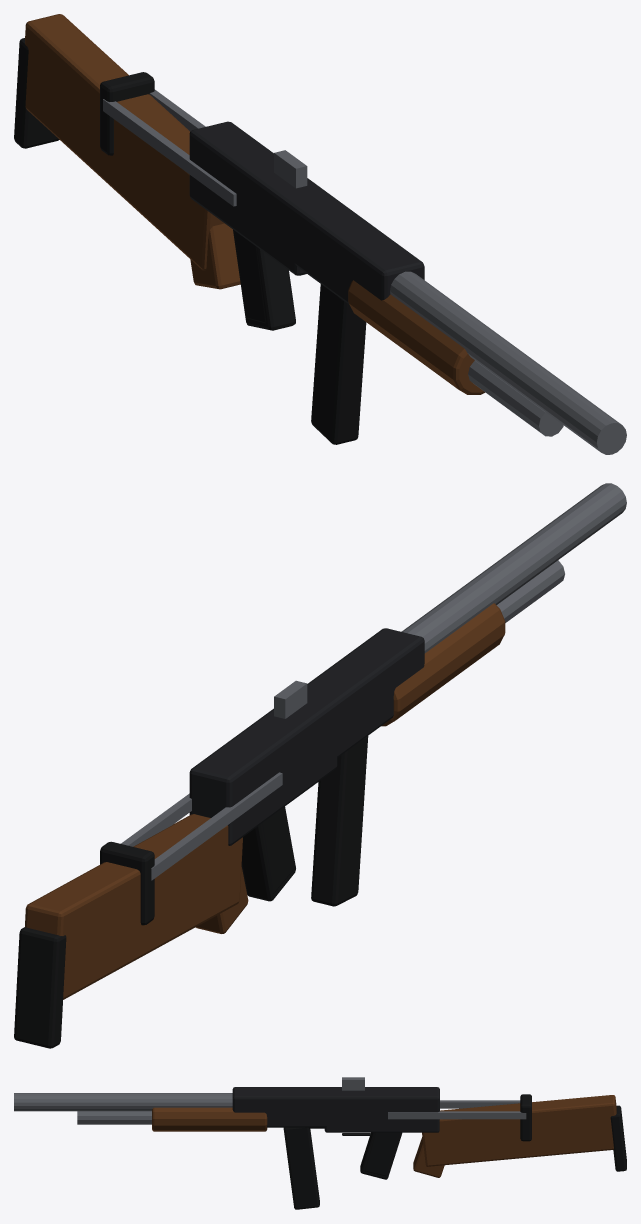
Rendered from guns.glb.
3 renders of one model, top to bottom at view 1: azimuth 30°, elevation 25°; view 2: azimuth 150°, elevation 25°; view 3: azimuth 270°, elevation 25°, orthographic. The views are drawn at different scales.
Visible parts, largest first — view 1: shotgun, smg, pistol; view 2: shotgun, smg, pistol; view 3: shotgun, smg, pistol.
Boxes of the visible parts, left/top/right/bottom form: shotgun: left=14, top=14, right=626, bottom=454; smg: left=100, top=72, right=424, bottom=444; pistol: left=233, top=229, right=295, bottom=330; shotgun: left=14, top=483, right=626, bottom=1048; smg: left=100, top=628, right=424, bottom=925; pistol: left=241, top=806, right=295, bottom=901; shotgun: left=14, top=1087, right=626, bottom=1177; smg: left=232, top=1077, right=531, bottom=1209; pistol: left=309, top=1127, right=402, bottom=1179.
Bounding box in the file's own units: 0.0546 × 0.2466 × 1.07.
